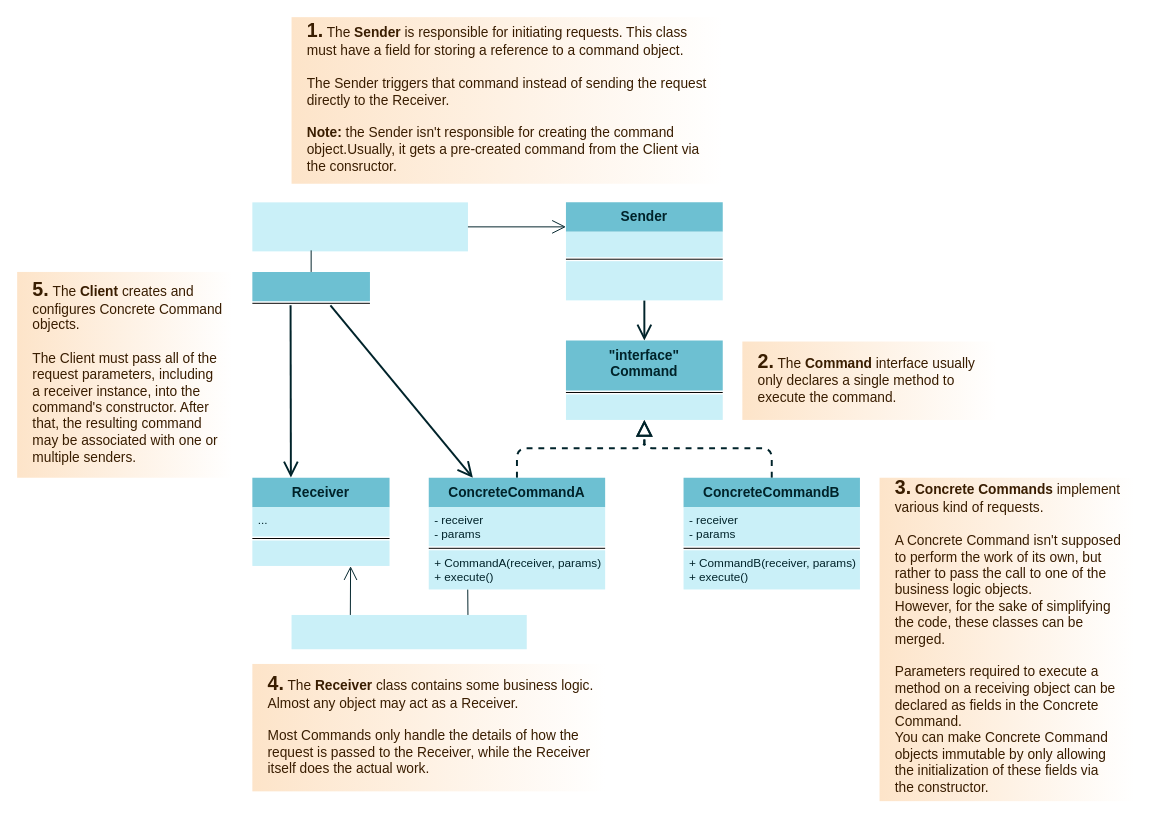
Some shapes in this 1151 by 817 pixel diagram are drawn without their labels. The centre of each missing label's shape, as x and y in pixels:
"+ execute()" goes at (643,406).
"+ operation(params)" goes at (320,552).
"+ set_command() + execute_command()" goes at (643,280).
"- command" goes at (643,244).
"Client" goes at (310,288).
"copy = CopyCommand(editor) button.set_command(copy)" goes at (359,226).
"receiver.operation(params)" goes at (408,631).
